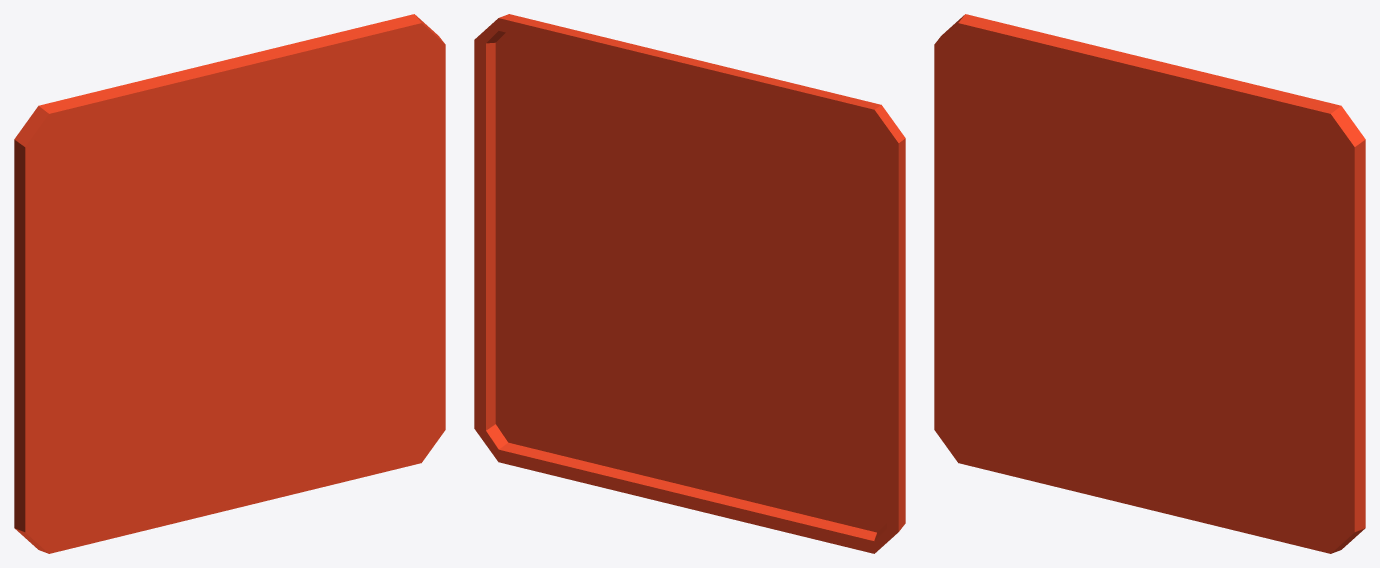
The model's file is SM_Sign_Telephone_A_City.fbx.
The picture shows the model from 3 angles, left to right: view 1: azimuth 30°, elevation 25°; view 2: azimuth 150°, elevation 25°; view 3: azimuth 330°, elevation 25°; orthographic projection.
Visible parts, largest first — view 1: SM_Sign_Telephone_A_City; view 2: SM_Sign_Telephone_A_City; view 3: SM_Sign_Telephone_A_City.
Part boxes in pixels (left/top/right/bottom): SM_Sign_Telephone_A_City: left=14, top=14, right=445, bottom=553; SM_Sign_Telephone_A_City: left=474, top=14, right=905, bottom=553; SM_Sign_Telephone_A_City: left=934, top=14, right=1365, bottom=553.
Size of the model in its own units: 0.5876 by 0.5876 by 0.0215.
